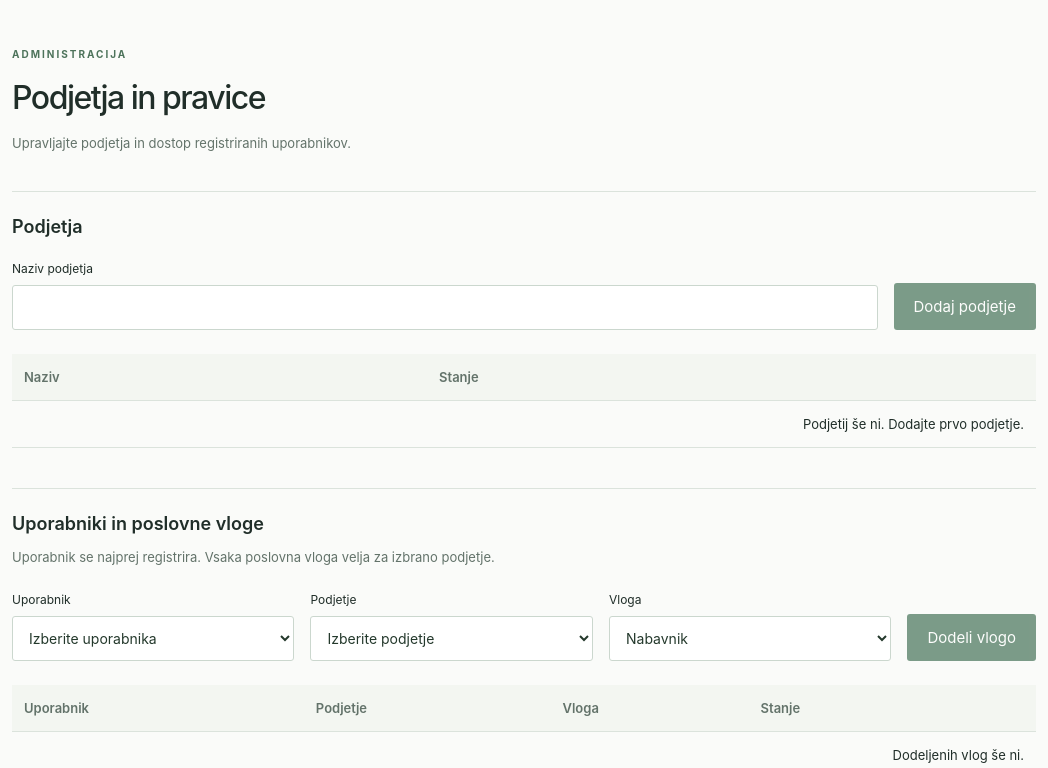
Scenario: US-02 administracija › ne prikaže lažnega uspeha, če shranjevanje podjetja ni dovoljeno
Type "Novo podjetje" into the field labelled "Naziv podjetja".
click(445, 307); type("Novo podjetje")  # box [12, 285, 878, 330]
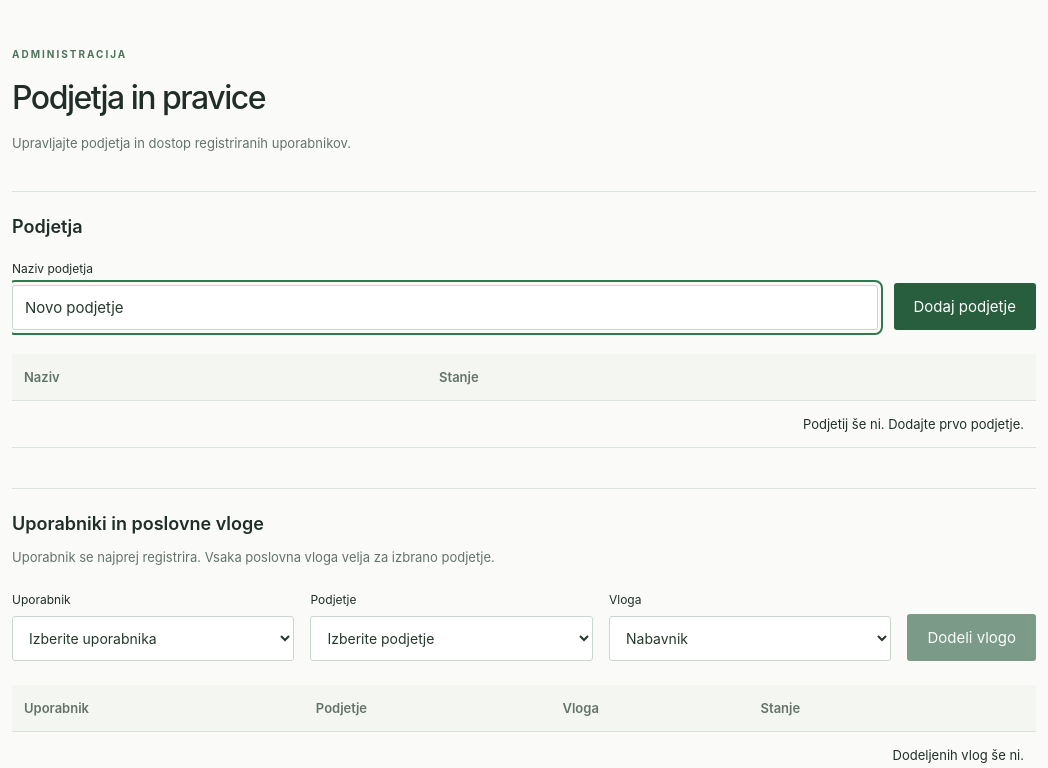
Click the button "Dodaj podjetje".
click(965, 306)  # box [894, 283, 1036, 330]
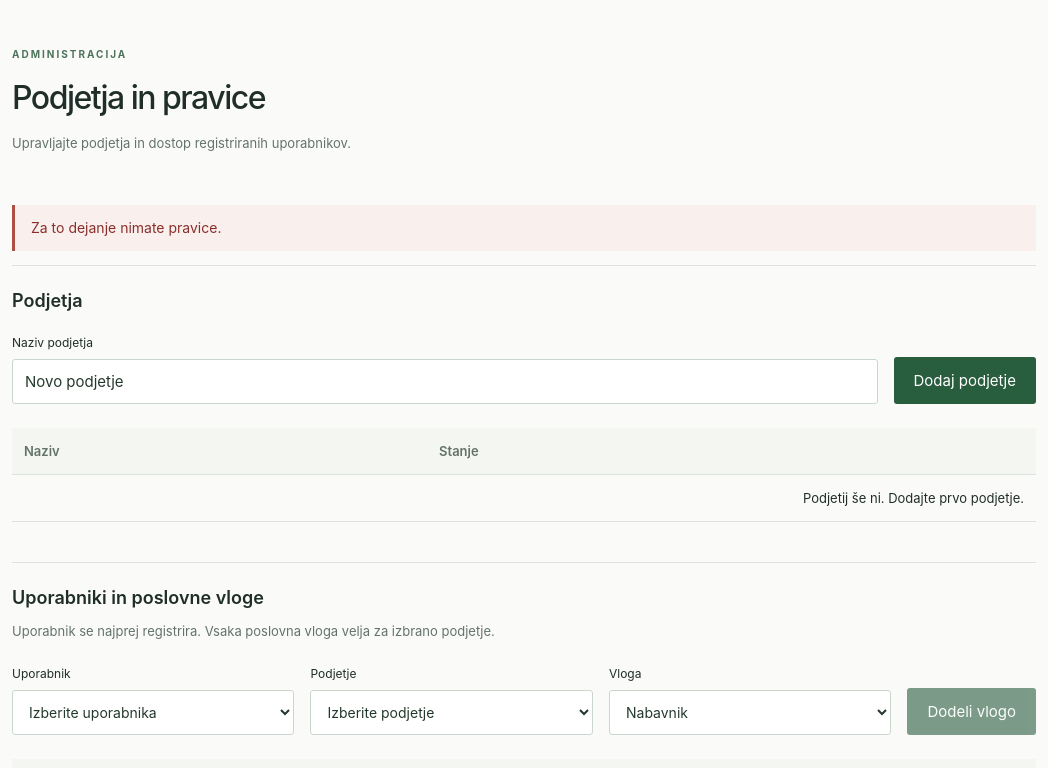
Expected: the message shows "nimate pravice", [31, 219, 221, 236]
